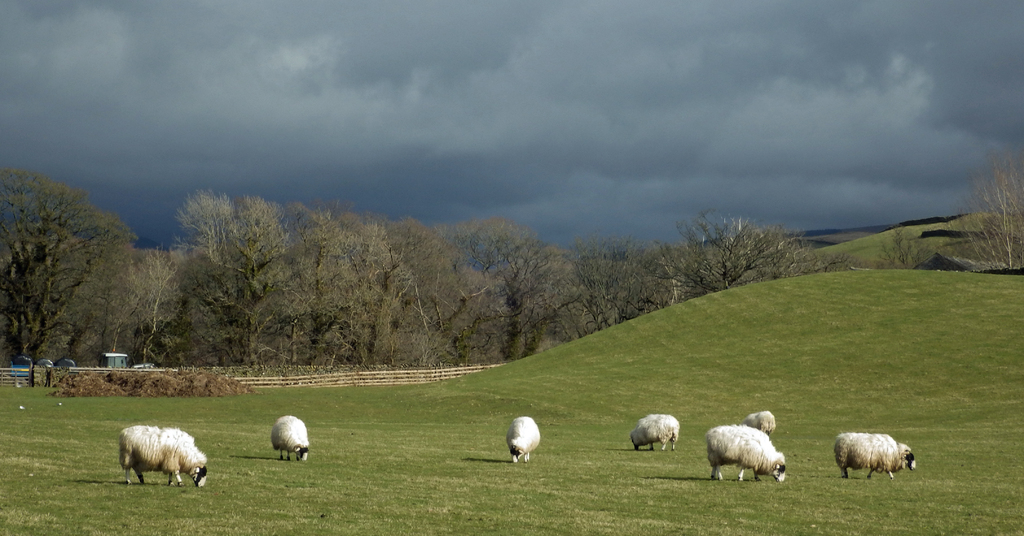sheep: (706, 412, 789, 488), (116, 422, 205, 485), (832, 433, 917, 479), (630, 410, 677, 450), (504, 415, 542, 463), (268, 411, 306, 457)
